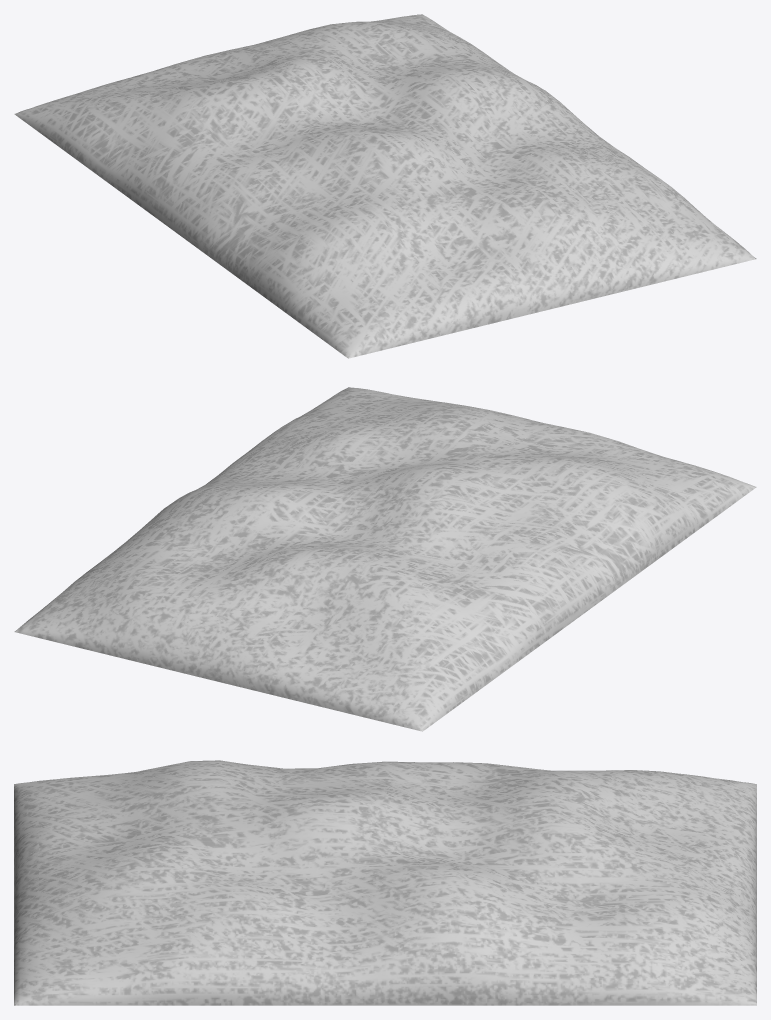
Rendered from bed_hay.glb.
3 renders of one model, top to bottom at view 1: azimuth 30°, elevation 25°; view 2: azimuth 150°, elevation 25°; view 3: azimuth 270°, elevation 25°, orthographic. The views are drawn at different scales.
Visible parts, largest first — view 1: bed_hay; view 2: bed_hay; view 3: bed_hay.
Boxes of the visible parts, bbox=[...] form: bed_hay: bbox=[14, 14, 756, 358]; bed_hay: bbox=[14, 387, 756, 731]; bed_hay: bbox=[14, 760, 756, 1005].
Size of the model in its own units: 1.2 by 0.1976 by 1.7.
Materials: 1 (1 with a texture image).
